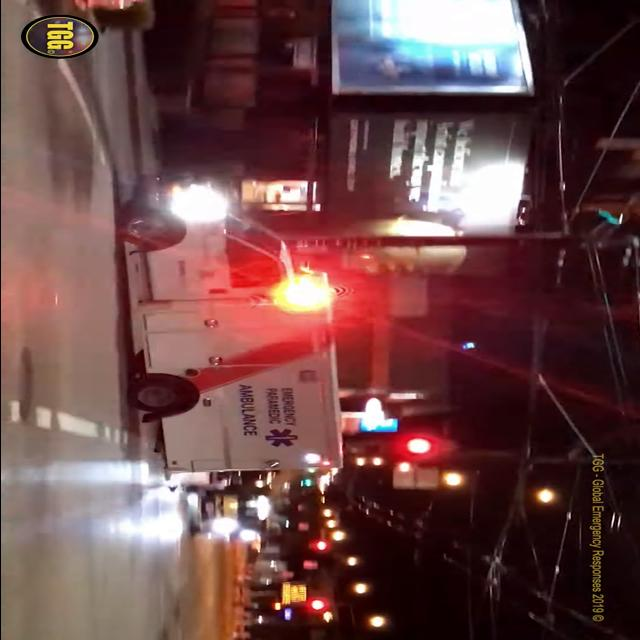emergency-vehicles: (95, 151, 347, 497)
